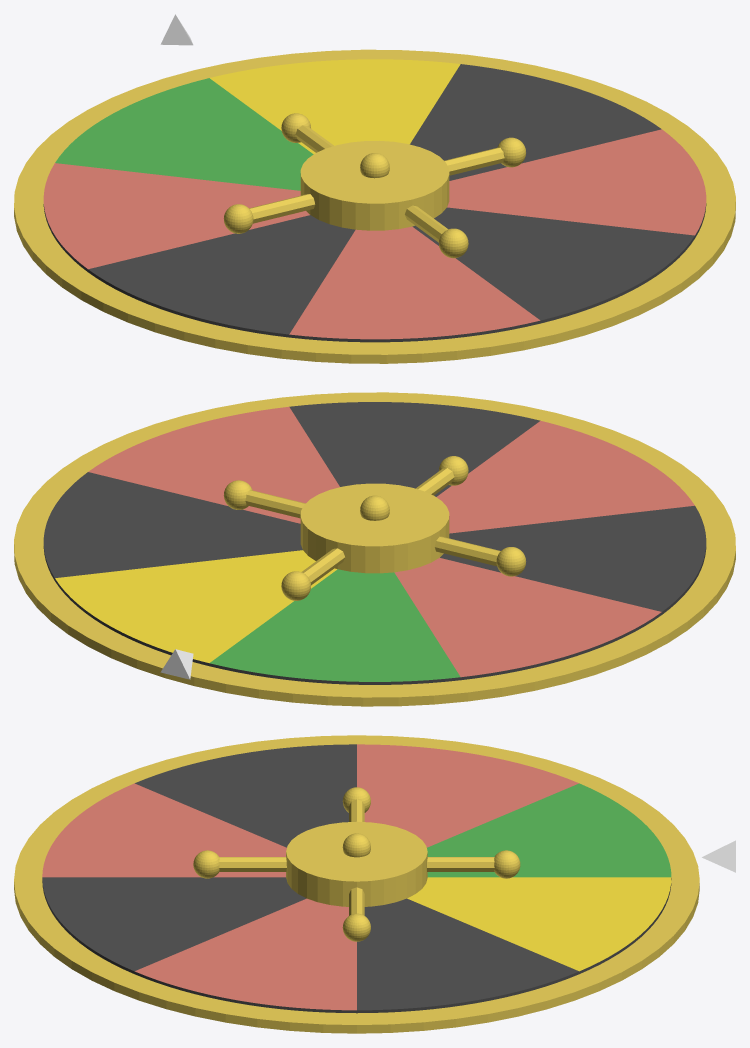
The model's file is ruleta1.fbx.
3 renders of one model, top to bottom at view 1: azimuth 30°, elevation 25°; view 2: azimuth 150°, elevation 25°; view 3: azimuth 270°, elevation 25°, orthographic. The views are drawn at different scales.
Visible parts, largest first — view 1: Ruleta_Disco, Ruleta_Aro, Ruleta_Centro, Brazo_180, Brazo_0, Brazo_270, BolitaBrazo_270, BolitaBrazo_180, BolitaBrazo_0, Ruleta_BolitaCentro, Brazo_90; view 2: Ruleta_Disco, Ruleta_Aro, Ruleta_Centro, Brazo_180, Brazo_0, Brazo_90, BolitaBrazo_180, BolitaBrazo_90, Indicador, Ruleta_BolitaCentro, BolitaBrazo_0, Brazo_270 (+1 smaller); view 3: Ruleta_Disco, Ruleta_Aro, Ruleta_Centro, Brazo_90, Brazo_270, BolitaBrazo_0, BolitaBrazo_270, BolitaBrazo_90, Indicador, Ruleta_BolitaCentro.
Part boxes in pixels (<box>): Ruleta_Disco: <box>43,59,706,342</box>; Ruleta_Aro: <box>14,49,735,363</box>; Ruleta_Centro: <box>300,141,449,230</box>; Brazo_180: <box>249,194,315,223</box>; Brazo_0: <box>444,147,504,175</box>; Brazo_270: <box>405,205,448,242</box>; BolitaBrazo_270: <box>439,228,468,258</box>; BolitaBrazo_180: <box>223,204,253,233</box>; BolitaBrazo_0: <box>497,137,525,167</box>; Ruleta_BolitaCentro: <box>360,153,389,178</box>; Brazo_90: <box>295,125,333,152</box>; Ruleta_Disco: <box>43,402,706,684</box>; Ruleta_Aro: <box>14,392,735,706</box>; Ruleta_Centro: <box>300,483,449,573</box>; Brazo_180: <box>435,536,500,566</box>; Brazo_0: <box>245,490,305,518</box>; Brazo_90: <box>302,548,345,585</box>; BolitaBrazo_180: <box>496,547,526,576</box>; BolitaBrazo_90: <box>281,571,310,600</box>; Indicador: <box>160,649,193,679</box>; Ruleta_BolitaCentro: <box>360,495,389,520</box>; BolitaBrazo_0: <box>223,480,252,509</box>; Brazo_270: <box>416,468,454,495</box>; Ruleta_Disco: <box>42,744,671,1013</box>; Ruleta_Aro: <box>14,735,699,1033</box>; Ruleta_Centro: <box>286,821,427,906</box>; Brazo_90: <box>427,857,494,871</box>; Brazo_270: <box>219,857,286,871</box>; BolitaBrazo_0: <box>342,913,370,941</box>; BolitaBrazo_270: <box>193,850,219,878</box>; BolitaBrazo_90: <box>494,850,520,878</box>; Indicador: <box>702,840,735,872</box>; Ruleta_BolitaCentro: <box>342,833,370,857</box>.
Bounding box in the file's own units: 436 × 38 × 459.
